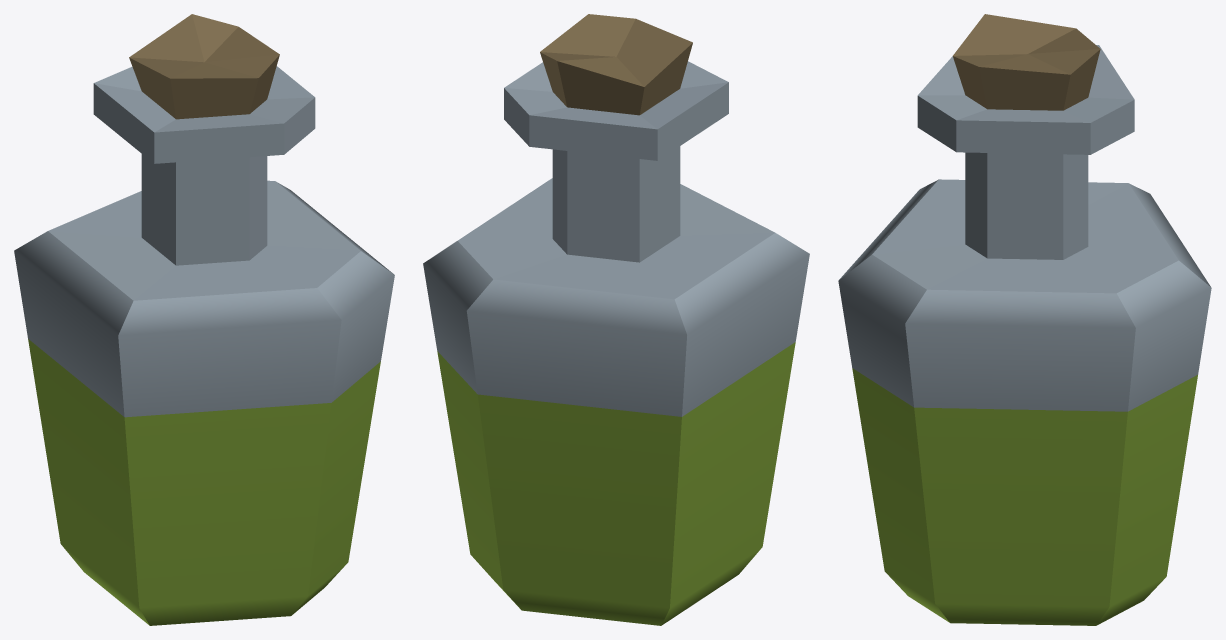
File: Truth_Potion.fbx
3 renders of one model, left to right at view 1: azimuth 30°, elevation 25°; view 2: azimuth 150°, elevation 25°; view 3: azimuth 270°, elevation 25°, orthographic.
Parts seen in each view (by area): view 1: pCylinder5; view 2: pCylinder5; view 3: pCylinder5.
Part boxes in pixels (box(x1,y1,x2,y2)): pCylinder5: box(14, 14, 394, 625); pCylinder5: box(423, 14, 809, 625); pCylinder5: box(838, 14, 1211, 625).
Size of the model in its own units: 16.78 by 30.74 by 19.09.
